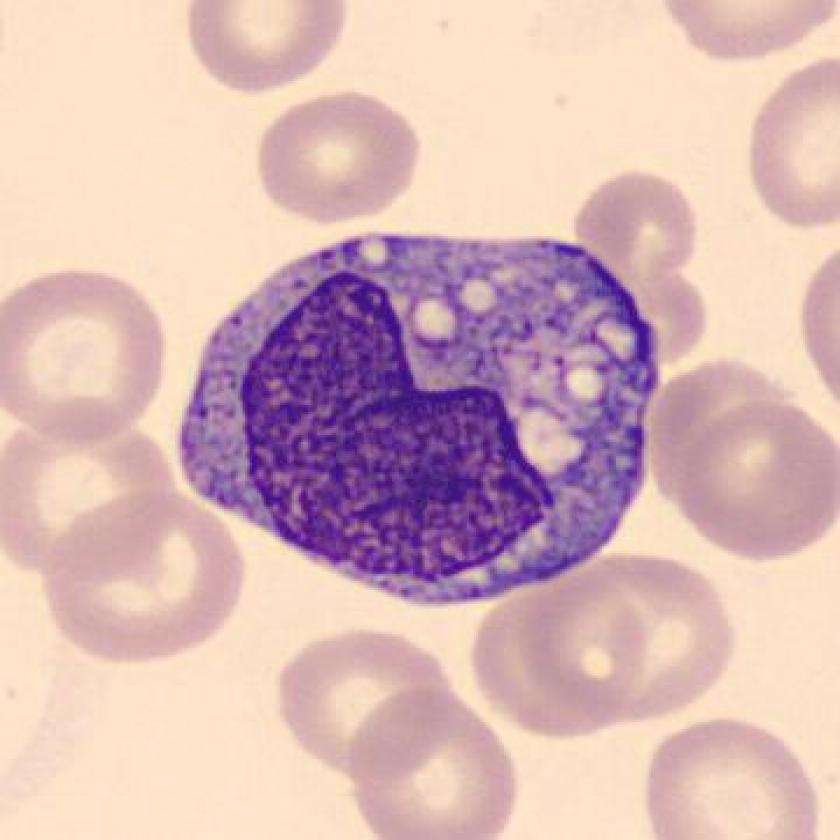monocyte: (157, 205, 692, 628)
